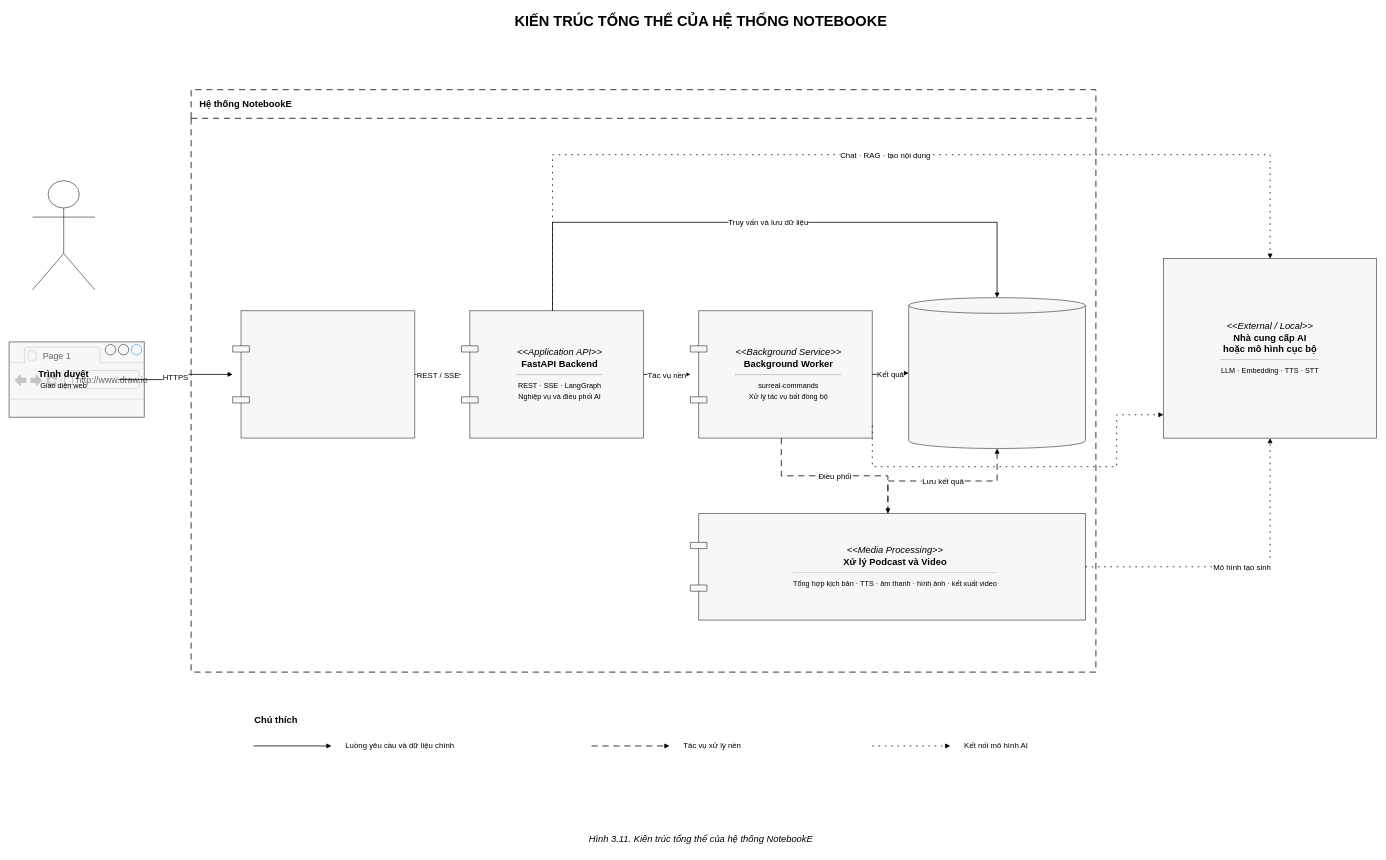
Image size: 1386x860. Some labels were removed from this diagram. Each missing label, with the centre of its shape:
<<Presentation>> Next.js Frontend React · TypeScript Trang web và API proxy: pixel 323 374
Người dùng: pixel 63 235
SurrealDB Dữ liệu · Vector Hàng đợi tác vụ Quan hệ đồ thị: pixel 997 372
